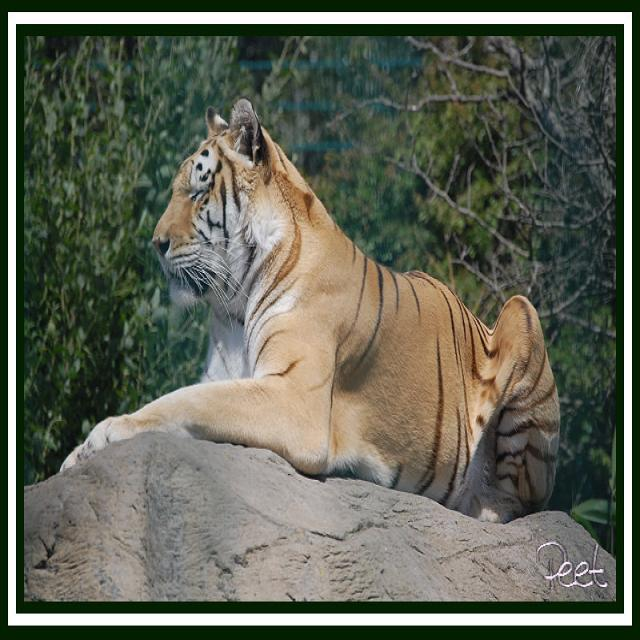Tiger: (59, 91, 558, 521)
